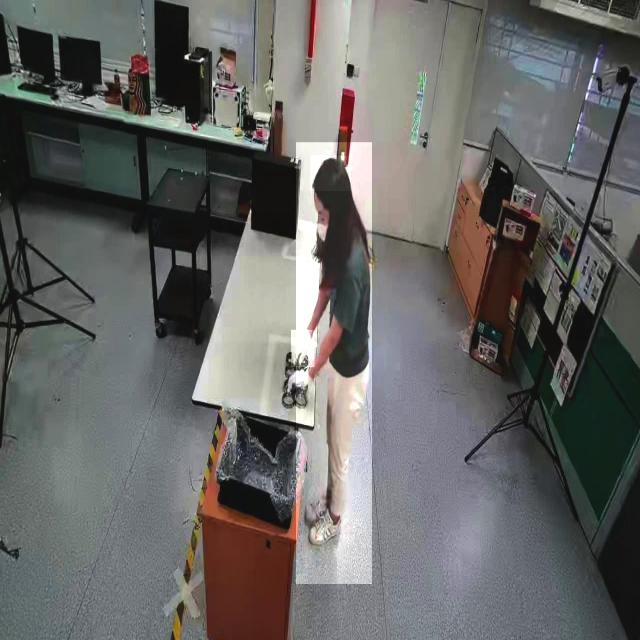face_mask: (314, 204, 332, 248)
hand_glove: (291, 330, 315, 367), (287, 366, 311, 402)
head_nohelmet: (310, 156, 352, 192)
person: (296, 142, 372, 585)
shoes: (308, 510, 343, 549), (304, 486, 338, 524)
